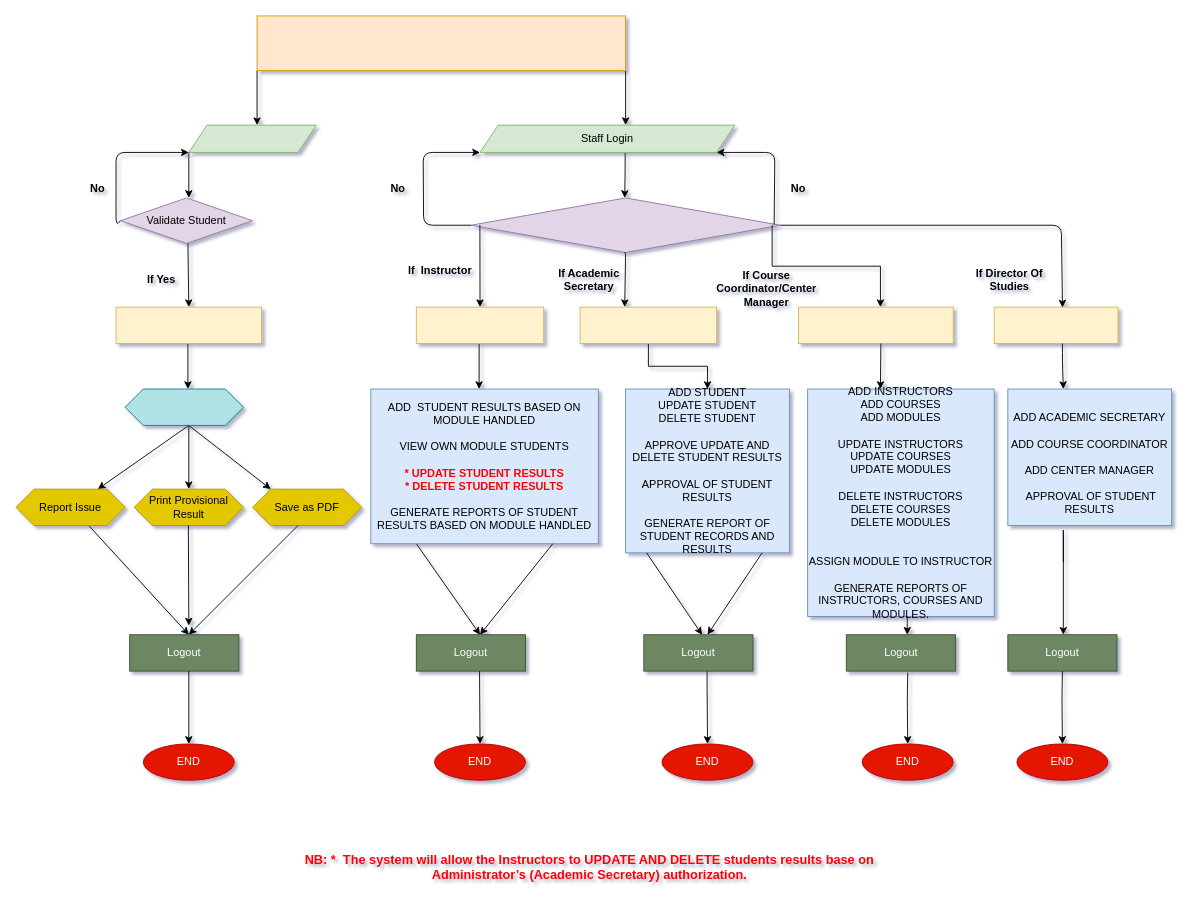
Some shapes in this 1193 by 904 pixel diagram are drawn without their labels. The box of each missing label's shape, as (x1, y1, x2, y2) in pixels:
Access Academic Secretary Roles: (579, 306, 717, 344)
Access Course Coordinator/Center Manager Roles: (798, 306, 953, 344)
Access Director of Studies Roles: (993, 306, 1118, 344)
Access Instructor Roles: (415, 306, 544, 344)
Access Module Results Currently Undertaken: (115, 306, 262, 344)
HOME PAGE: (256, 15, 626, 71)
Perform Action(s): (124, 388, 243, 425)
Student Login: (188, 124, 316, 152)
Validate Staff: (470, 197, 780, 253)
